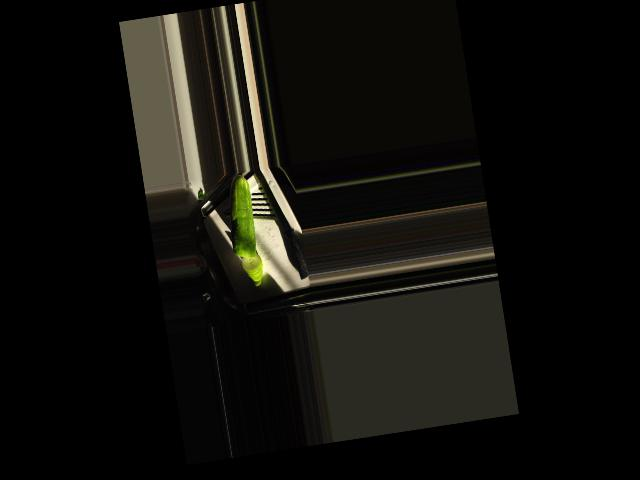cucumber: (222, 173, 260, 260)
